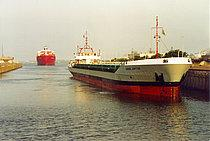Ship: (66, 14, 196, 101), (33, 43, 59, 70)
